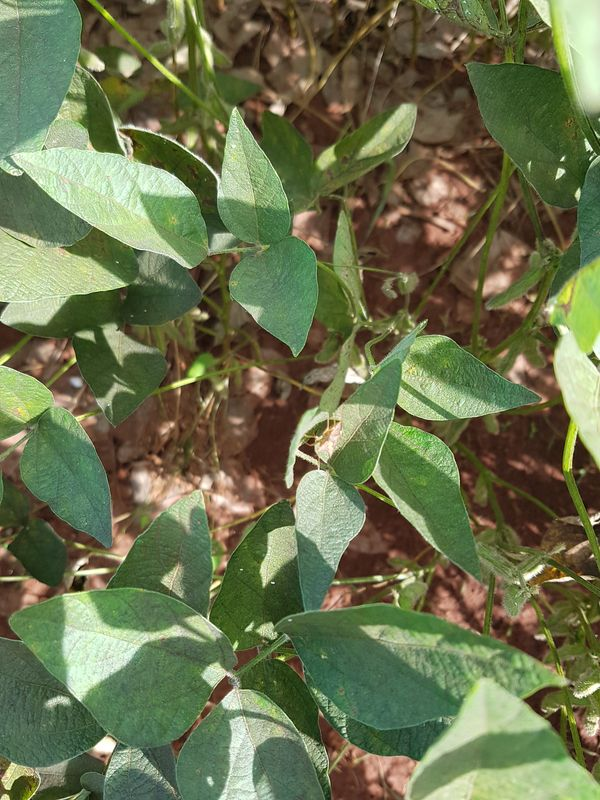Euschistus_heros_adulto: (301, 413, 349, 466)
